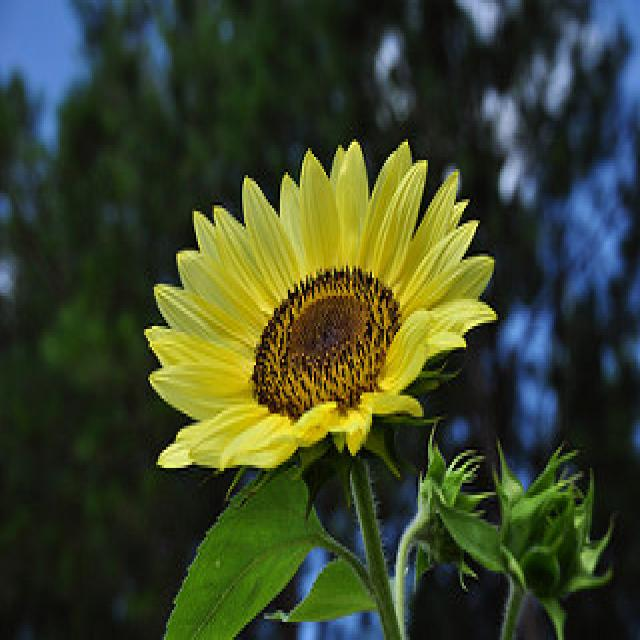sunflower: (141, 133, 501, 480)
